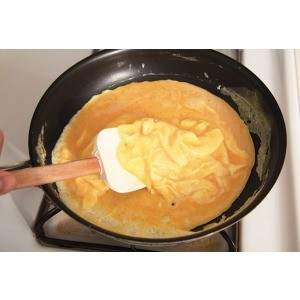egg_brain food: (89, 92, 253, 210)
